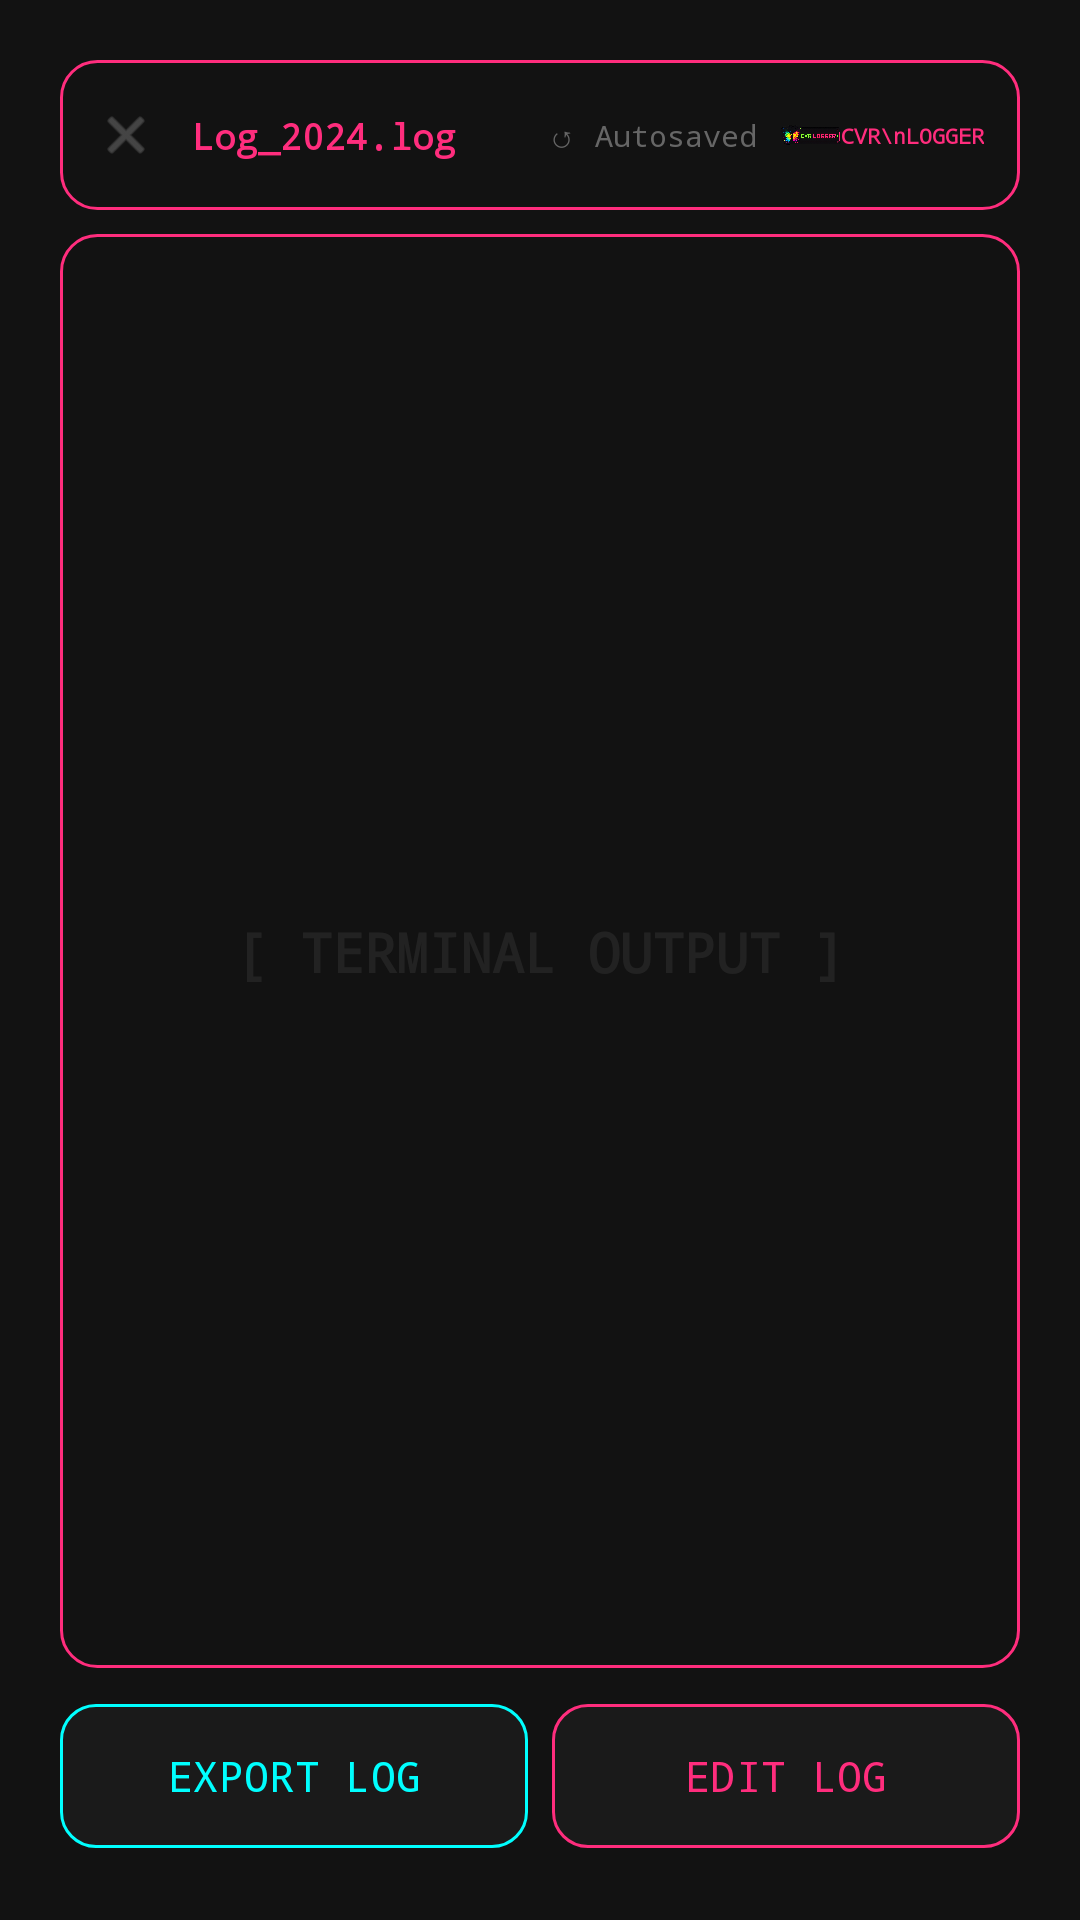

Screen size 1080×1920. Icon name, then its box in pixels as [x1, y1, x2, y2]:
close clear cancel: [108, 117, 144, 153]
